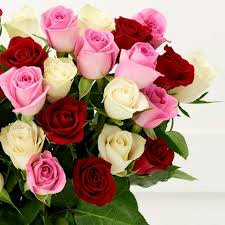rose: (34, 93, 94, 153), (75, 154, 118, 212), (155, 43, 196, 93), (2, 34, 51, 71), (135, 134, 176, 177), (109, 13, 155, 50)
